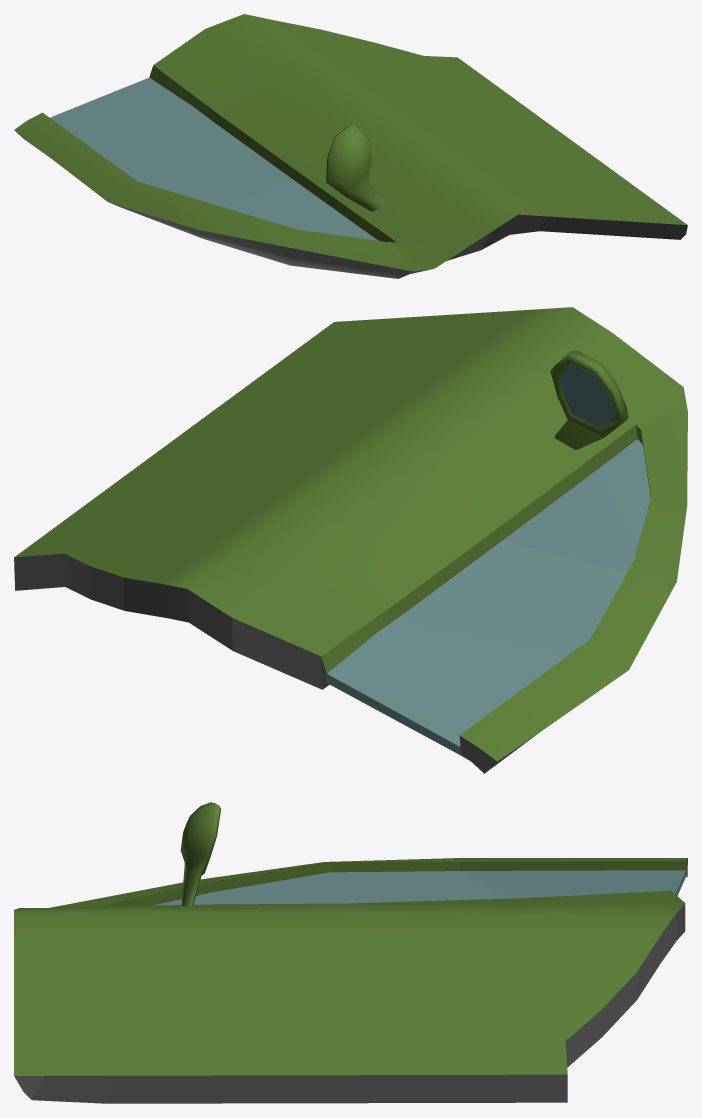
File: FBX_Autopartes_2.fbx
3 views of the same model, one above another, from view 1: azimuth 30°, elevation 25°; view 2: azimuth 150°, elevation 25°; view 3: azimuth 270°, elevation 25° (orthographic). The views are drawn at different scales.
Visible parts, largest first — view 1: PUERTA; view 2: PUERTA; view 3: PUERTA.
Part boxes in pixels (<box>): PUERTA: <box>14,14,687,278</box>; PUERTA: <box>14,307,687,773</box>; PUERTA: <box>14,802,687,1103</box>.
Size of the model in its own units: 128 by 38.51 by 156.
